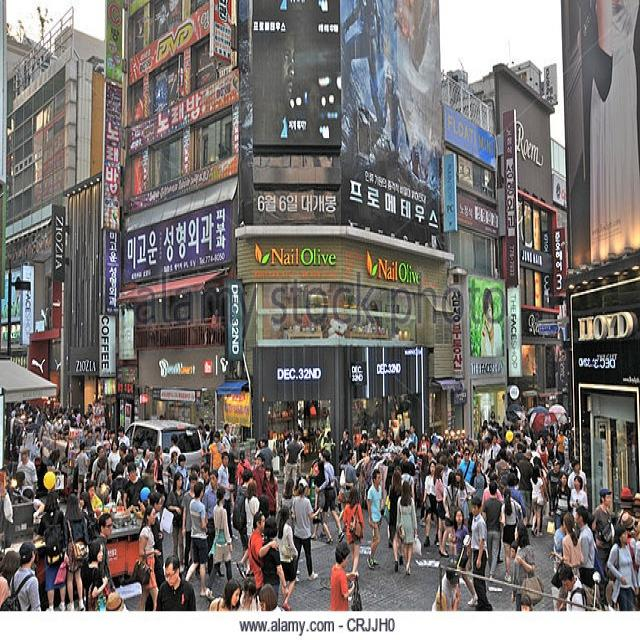body: (342, 3, 437, 188), (580, 0, 640, 263), (42, 400, 164, 490), (395, 397, 484, 486), (264, 23, 329, 144), (163, 408, 254, 489), (484, 400, 548, 495), (0, 398, 43, 526), (254, 410, 335, 477), (339, 397, 396, 483), (545, 509, 584, 626), (547, 400, 587, 508), (296, 296, 388, 341), (152, 551, 198, 638), (131, 504, 162, 632), (37, 489, 67, 617), (466, 495, 495, 621), (607, 524, 639, 638), (182, 478, 212, 598), (59, 488, 87, 614), (510, 515, 537, 638), (8, 540, 41, 638), (289, 476, 319, 583), (272, 502, 299, 613), (246, 511, 280, 598), (81, 535, 109, 639), (593, 486, 617, 607), (208, 482, 234, 587), (200, 469, 225, 578), (479, 480, 505, 584), (497, 485, 524, 585), (318, 446, 345, 544), (453, 506, 479, 607), (396, 476, 421, 577), (429, 560, 461, 638), (89, 510, 118, 596), (261, 516, 289, 604), (165, 470, 187, 576), (234, 468, 255, 578), (480, 470, 504, 566), (341, 486, 366, 578), (471, 284, 504, 352), (574, 503, 599, 591), (329, 540, 359, 612), (309, 458, 333, 544), (147, 491, 167, 591), (430, 463, 450, 558), (365, 466, 383, 571), (507, 539, 526, 637), (86, 489, 150, 518), (387, 469, 404, 572), (216, 448, 235, 540), (181, 472, 198, 574), (421, 460, 440, 548), (441, 469, 459, 558), (453, 466, 477, 529), (556, 564, 588, 611), (207, 575, 244, 613), (529, 463, 546, 538), (243, 476, 261, 542), (260, 464, 279, 524), (77, 489, 97, 545), (152, 69, 180, 109), (552, 511, 568, 575), (625, 524, 640, 592), (616, 483, 640, 525), (280, 476, 297, 535), (239, 571, 262, 613), (195, 43, 217, 86), (153, 0, 180, 35), (468, 459, 488, 505), (202, 306, 226, 342), (250, 452, 268, 499), (156, 144, 175, 185), (142, 314, 167, 345), (126, 85, 145, 125), (257, 582, 282, 612), (1, 551, 21, 585), (380, 491, 392, 546), (400, 460, 416, 501), (131, 154, 144, 193), (104, 591, 129, 611), (212, 137, 230, 161)
